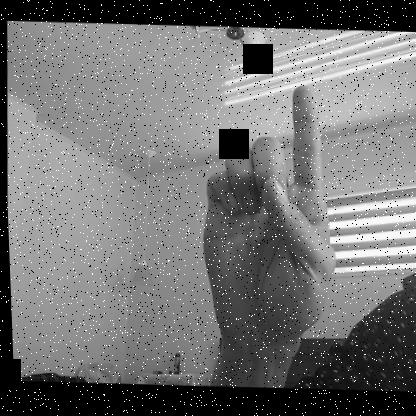D: (191, 81, 341, 335)
